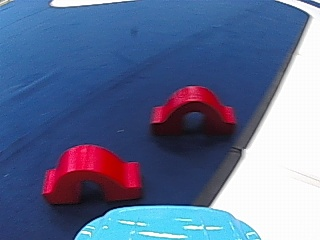bridge: (36, 139, 146, 209), (144, 81, 241, 137)
